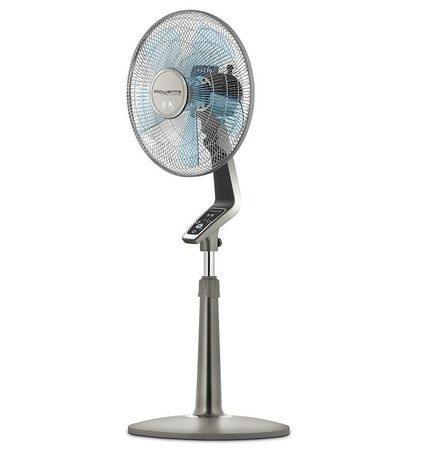fan: (117, 8, 296, 440)
